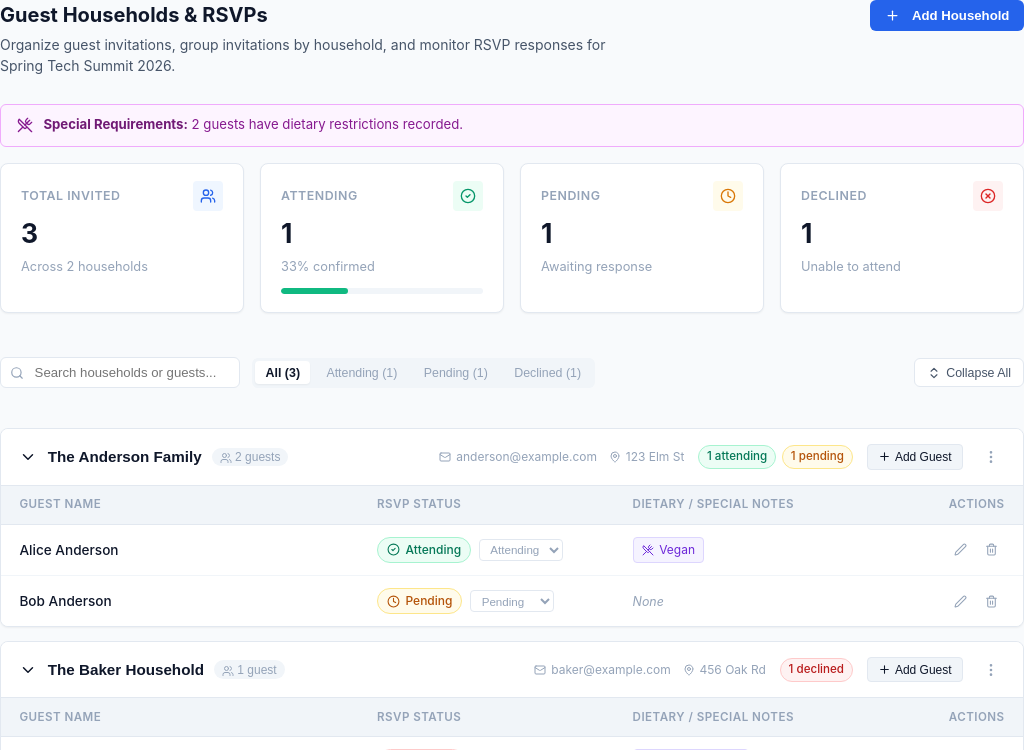
it: EventGuestsTab Household & Guest Management (Sub-Task 3.5.2) › toggles expand and collapse of household accordion
Click to collapse
Click the button with aria-label "Toggle The Anderson Family household members".
click(223, 457)  # box [19,448,428,466]
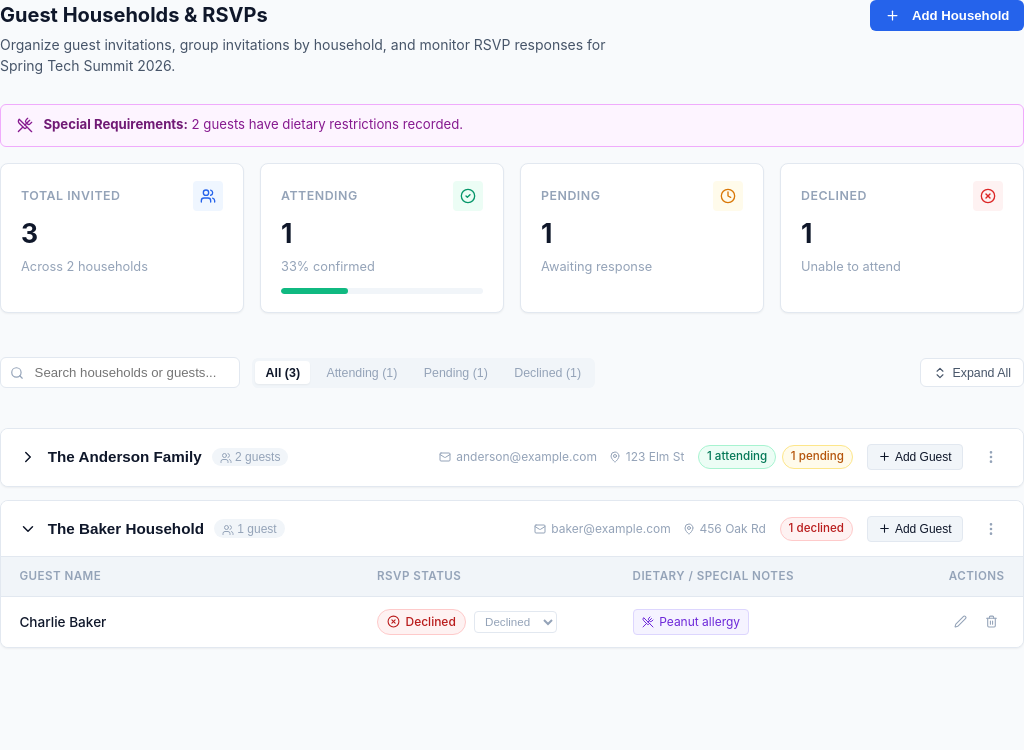
Check: the button with aria-label "Toggle The Anderson Family household members" is collapsed
Check: the text "Alice Anderson" is gone
Click to expand again
Click the button with aria-label "Toggle The Anderson Family household members".
click(223, 457)  # box [19,448,428,466]
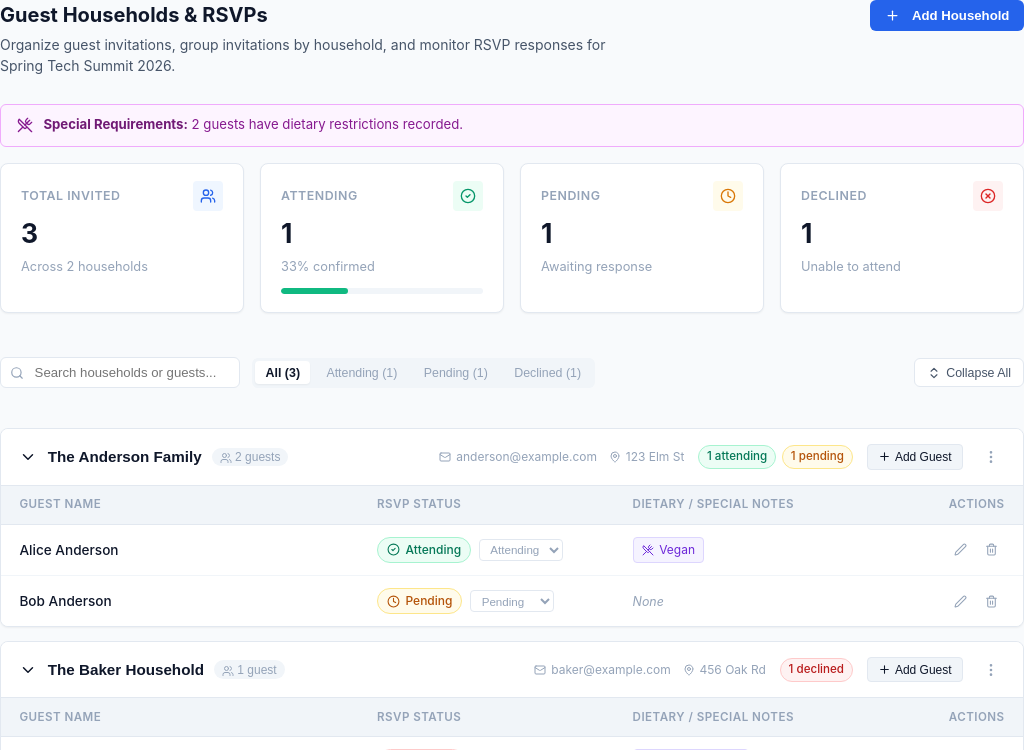
Check: the button with aria-label "Toggle The Anderson Family household members" is expanded, box [19,448,428,466]
Check: the text "Alice Anderson" is shown, box [19,542,118,558]
